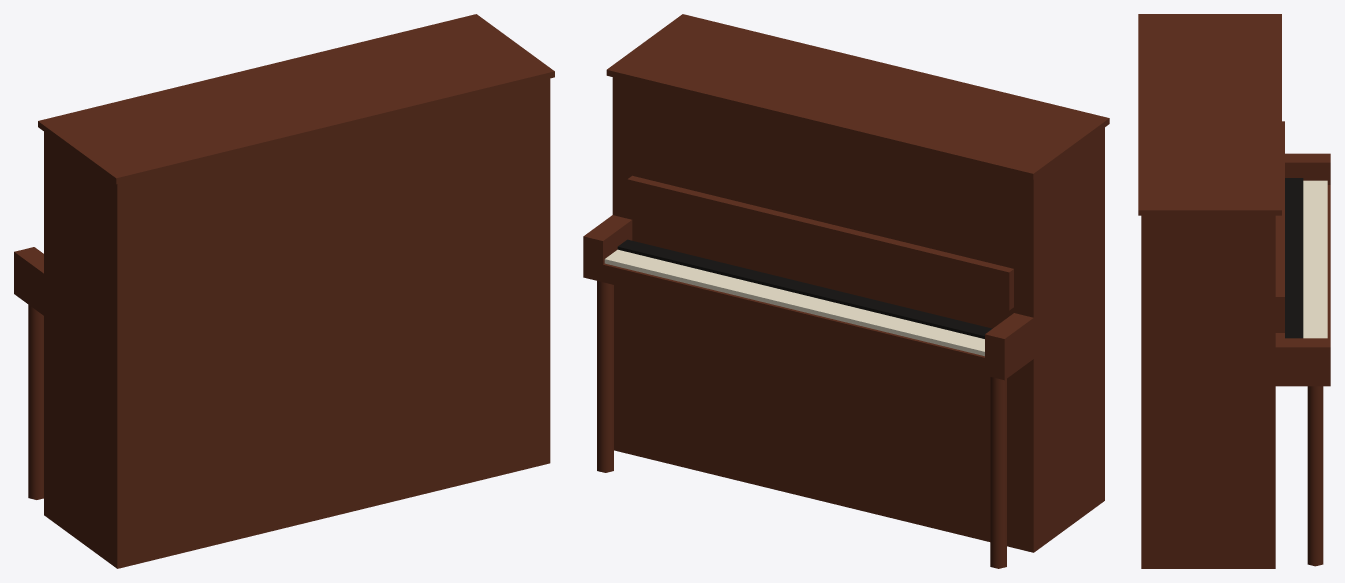
File: parametric-piano-1st-pub.glb
3 renders of one model, left to right at view 1: azimuth 30°, elevation 25°; view 2: azimuth 150°, elevation 25°; view 3: azimuth 270°, elevation 25°, orthographic. The views are drawn at different scales.
Parts seen in each view (by area): view 1: parametric-piano-1st-pub; view 2: parametric-piano-1st-pub; view 3: parametric-piano-1st-pub.
Boxes of the visible parts, x1,y1,x2,y2 form: parametric-piano-1st-pub: (14,14,554,568); parametric-piano-1st-pub: (583,14,1109,568); parametric-piano-1st-pub: (1138,14,1330,568).
Size of the model in its own units: 1.52 by 1.3 by 0.63.
